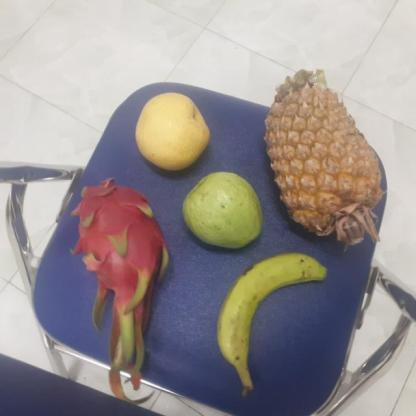banana: (213, 253, 325, 369)
guava: (178, 173, 261, 247)
pear: (132, 94, 212, 171)
pineapple: (264, 80, 381, 244)
pitaya: (67, 180, 166, 309)
